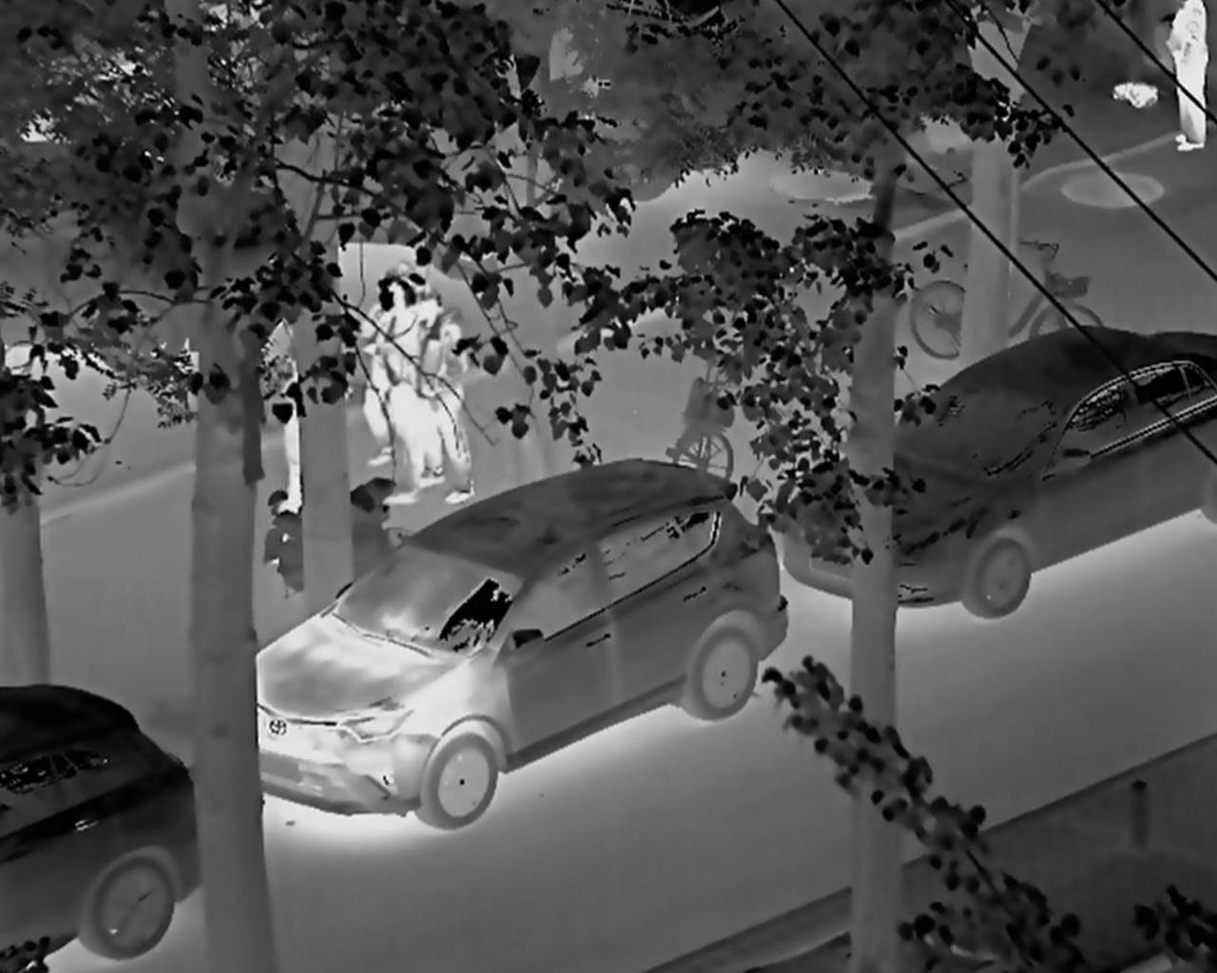person: (332, 262, 483, 493)
